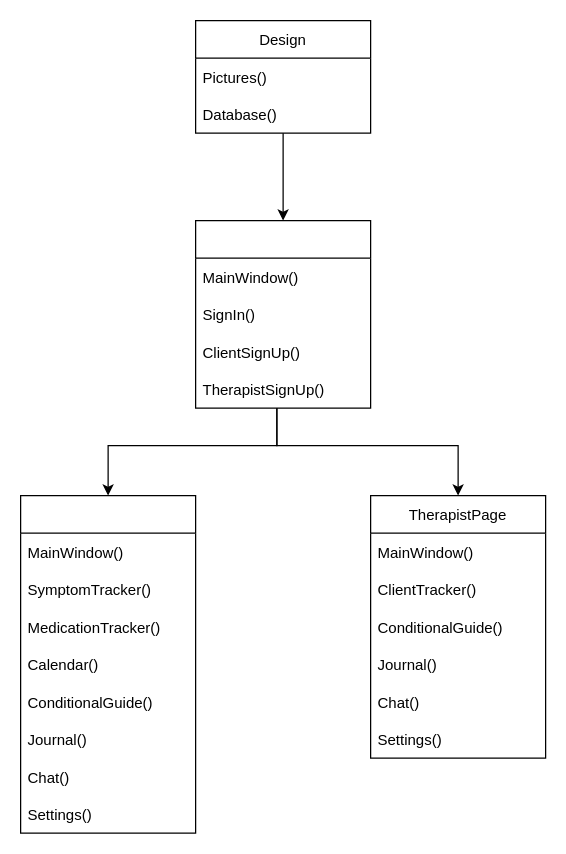
Some shapes in this 566 by 854 pixel diagram are drawn without their labels. Each missing label, with the box of its shape:
ClientPage: (19, 494, 196, 833)
Login/SignUp: (194, 219, 371, 408)
